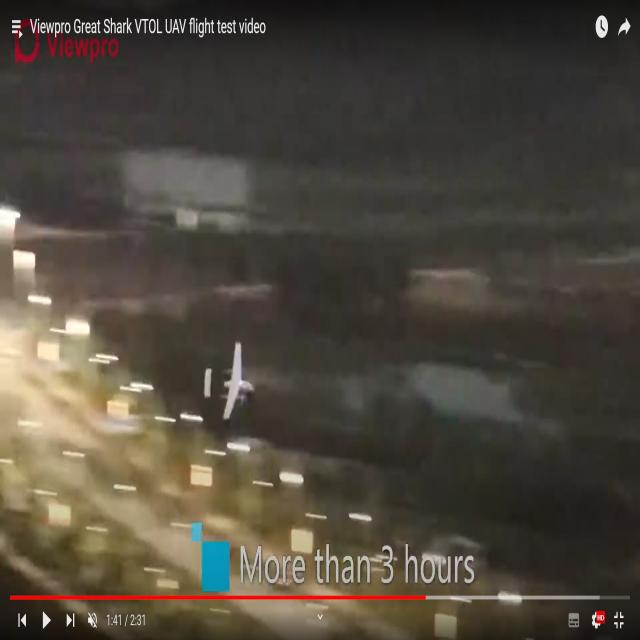iha: (203, 372, 254, 388)
